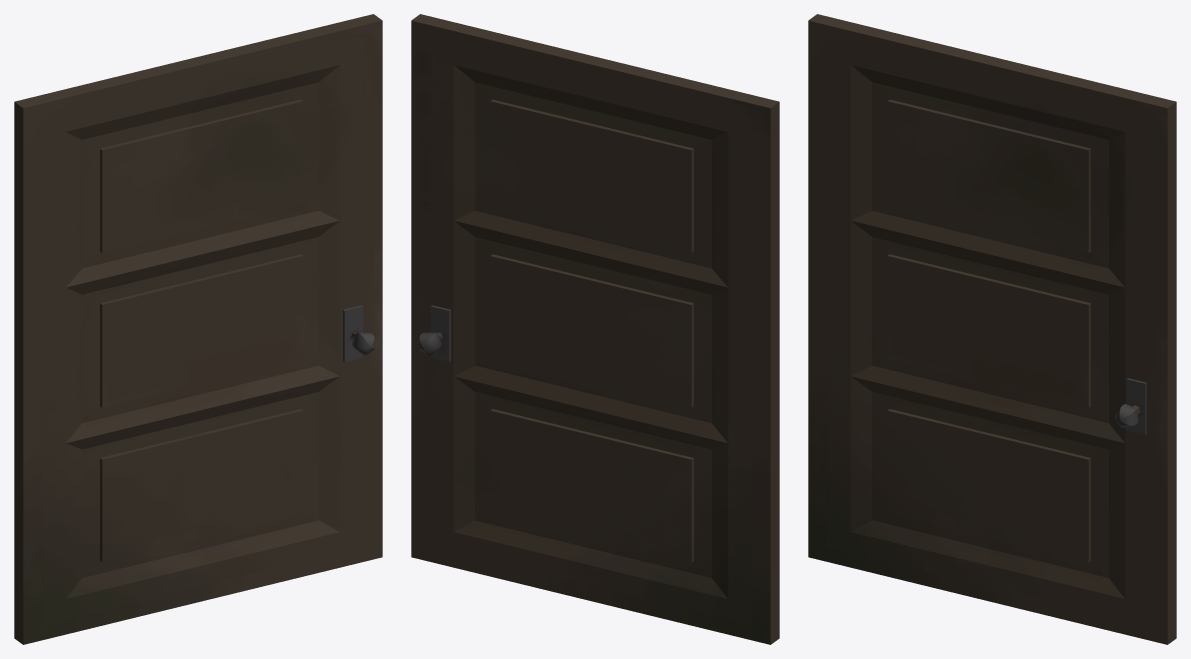
Rendered from OVI_tekstuurit.fbx.
The picture shows the model from 3 angles, left to right: view 1: azimuth 30°, elevation 25°; view 2: azimuth 150°, elevation 25°; view 3: azimuth 330°, elevation 25°; orthographic projection.
Parts seen in each view (by area): view 1: ovi, ovi_raamit; view 2: ovi, ovi_raamit; view 3: ovi, ovi_raamit.
Part boxes in pixels (left/top/right/bottom): ovi: left=41, top=41, right=375, bottom=624; ovi_raamit: left=14, top=14, right=382, bottom=644; ovi: left=418, top=40, right=752, bottom=624; ovi_raamit: left=411, top=14, right=779, bottom=644; ovi: left=826, top=41, right=1149, bottom=624; ovi_raamit: left=808, top=14, right=1176, bottom=644.
Bounding box in the file's own units: 216 × 308 × 45.41.
2 materials, 2 textured.
